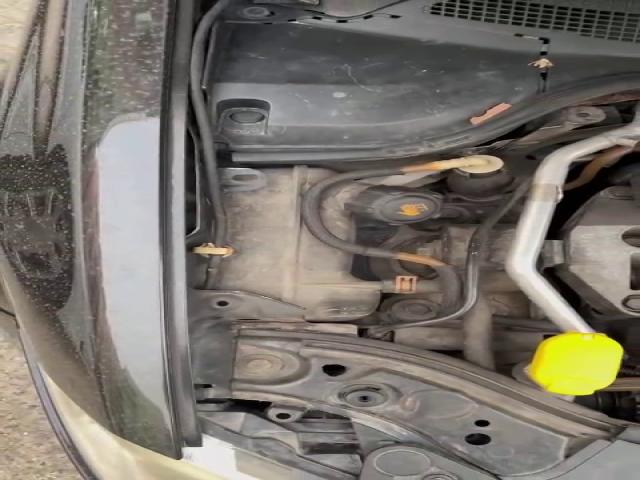antifreeze_tank: (214, 166, 380, 321), (322, 181, 444, 240)
